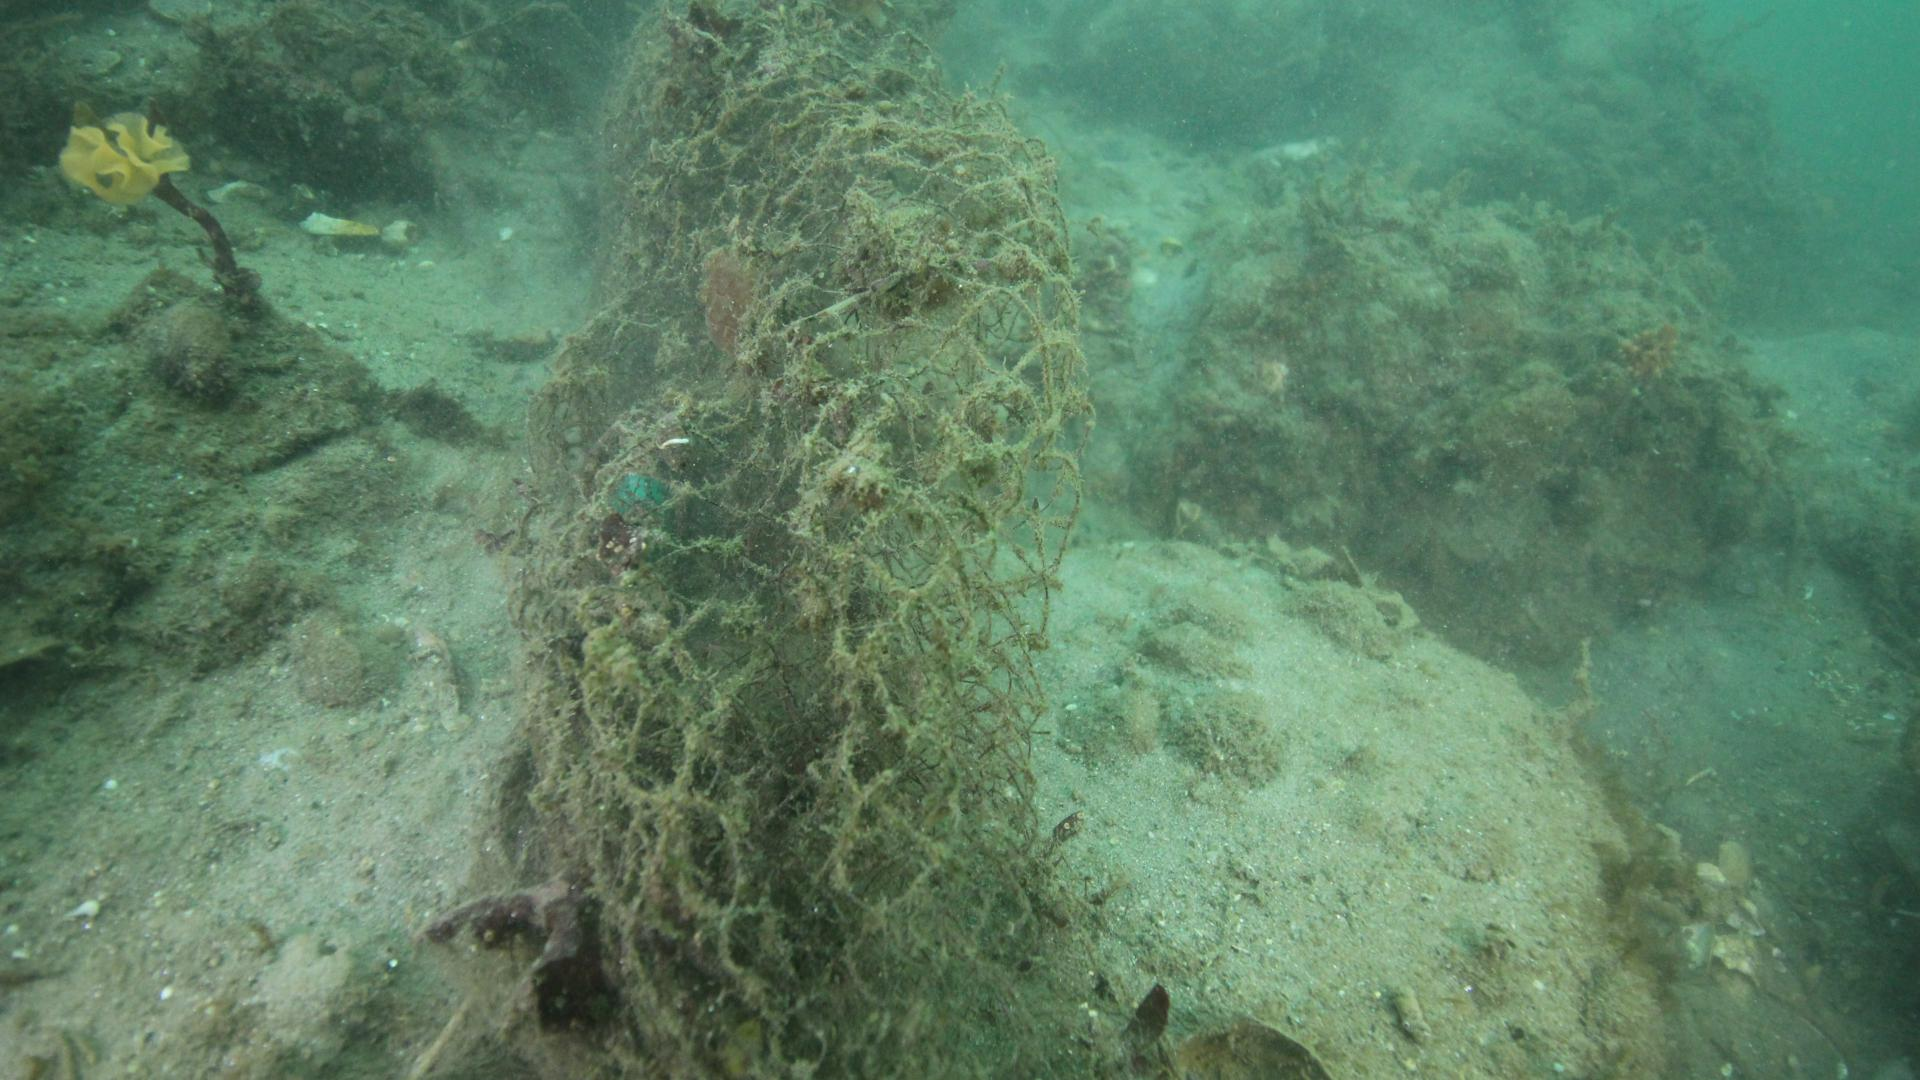fish net: (574, 0, 1087, 996)
